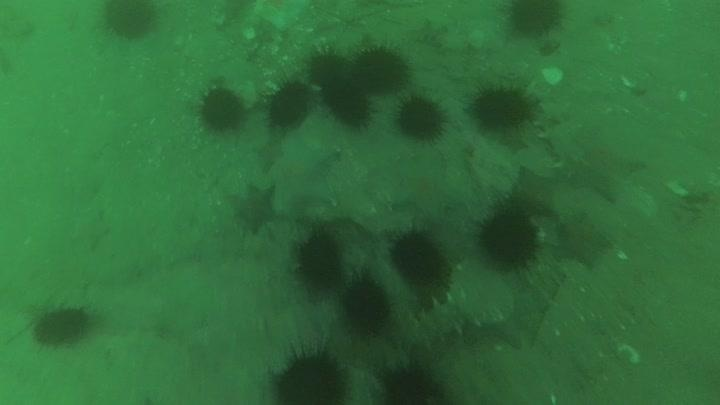echinus: (268, 343, 351, 404), (475, 201, 543, 272), (387, 226, 451, 289), (467, 82, 537, 134), (338, 272, 394, 336), (291, 227, 346, 292), (375, 356, 447, 404), (349, 42, 411, 96), (29, 301, 92, 349), (321, 75, 373, 128), (394, 93, 449, 143), (264, 78, 314, 131), (98, 1, 160, 42), (196, 85, 247, 134), (503, 1, 567, 39), (304, 46, 352, 88)
holothurian: (396, 294, 482, 351)
starfish: (553, 123, 647, 203), (485, 263, 566, 349), (267, 135, 342, 216), (388, 156, 465, 223), (552, 211, 612, 269), (507, 164, 565, 221), (229, 181, 280, 235), (69, 208, 114, 254), (252, 1, 313, 34)
